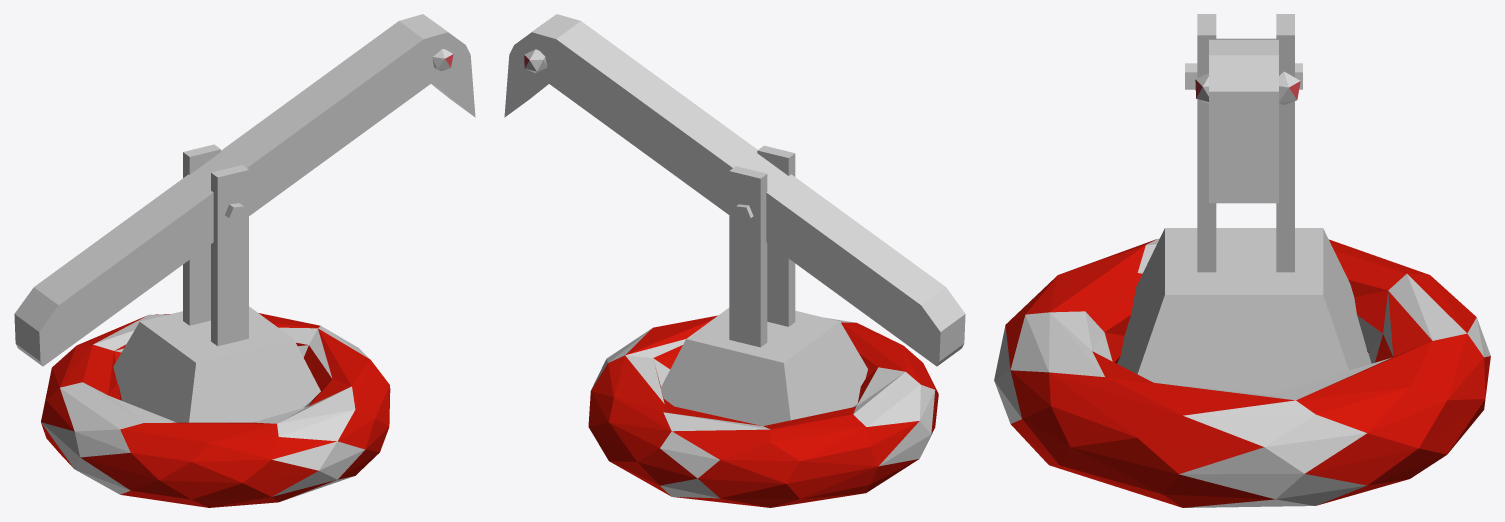
The model's file is oilwell_ring.fbx.
The picture shows the model from 3 angles, left to right: view 1: azimuth 30°, elevation 25°; view 2: azimuth 150°, elevation 25°; view 3: azimuth 270°, elevation 25°; orthographic projection. The views are drawn at different scales.
Visible parts, largest first — view 1: Water Well; view 2: Water Well; view 3: Water Well.
Boxes of the visible parts, x1,y1,x2,y2 form: Water Well: (14, 14, 475, 507); Water Well: (504, 14, 965, 507); Water Well: (994, 14, 1490, 507).
Bounding box in the file's own units: 149 × 121 × 105.
